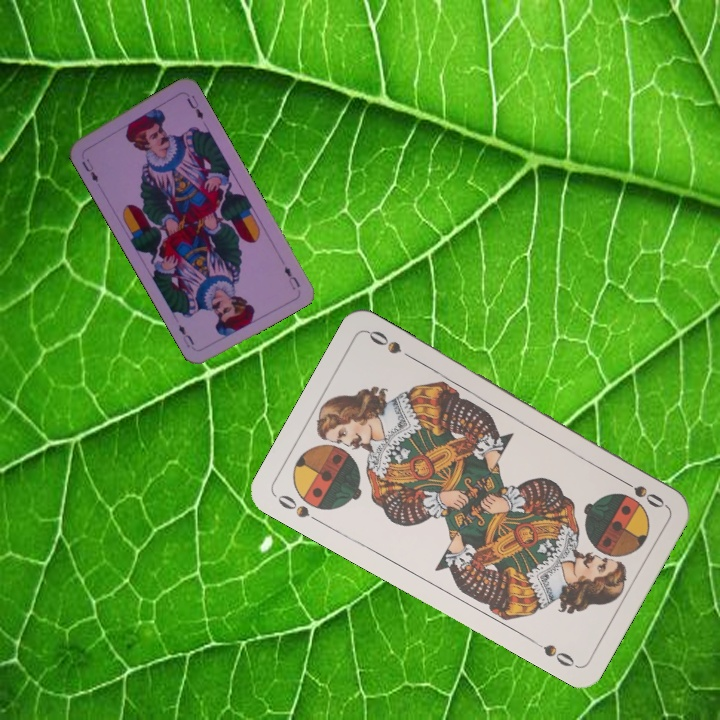EU: (77, 154, 101, 185), (280, 262, 303, 293)
SO: (614, 473, 668, 511), (273, 490, 325, 527)
